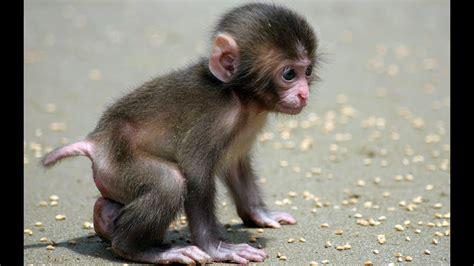monkey: (44, 6, 315, 263)
